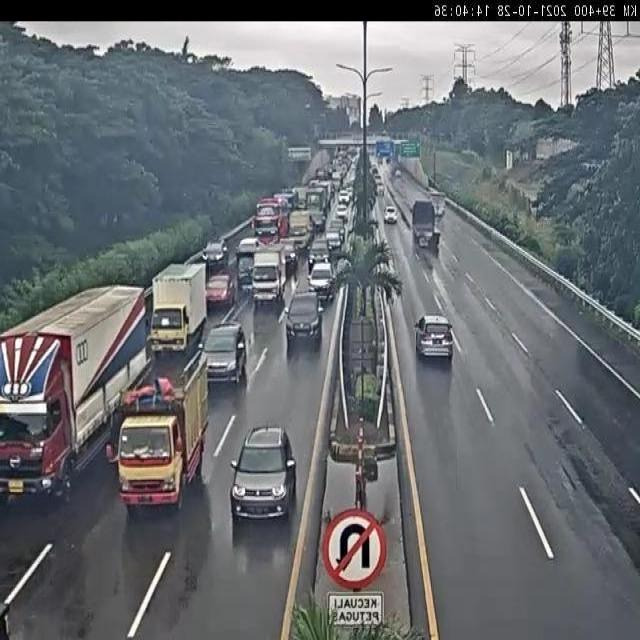Car: (230, 424, 298, 522), (202, 321, 248, 386), (284, 291, 322, 354), (418, 313, 452, 367), (325, 230, 343, 253), (333, 162, 349, 182), (336, 202, 349, 220), (346, 146, 358, 164), (345, 182, 355, 199)
Truck: (0, 279, 148, 497), (117, 366, 208, 515), (149, 263, 201, 349), (250, 253, 288, 309), (415, 197, 439, 248)
